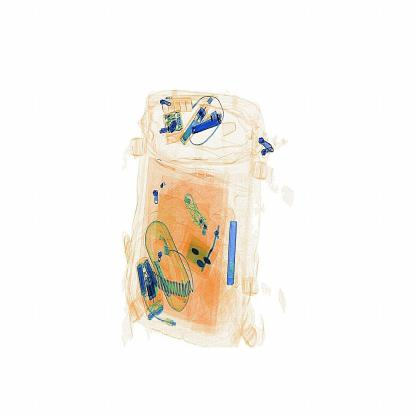pliers: (225, 217, 238, 292)
